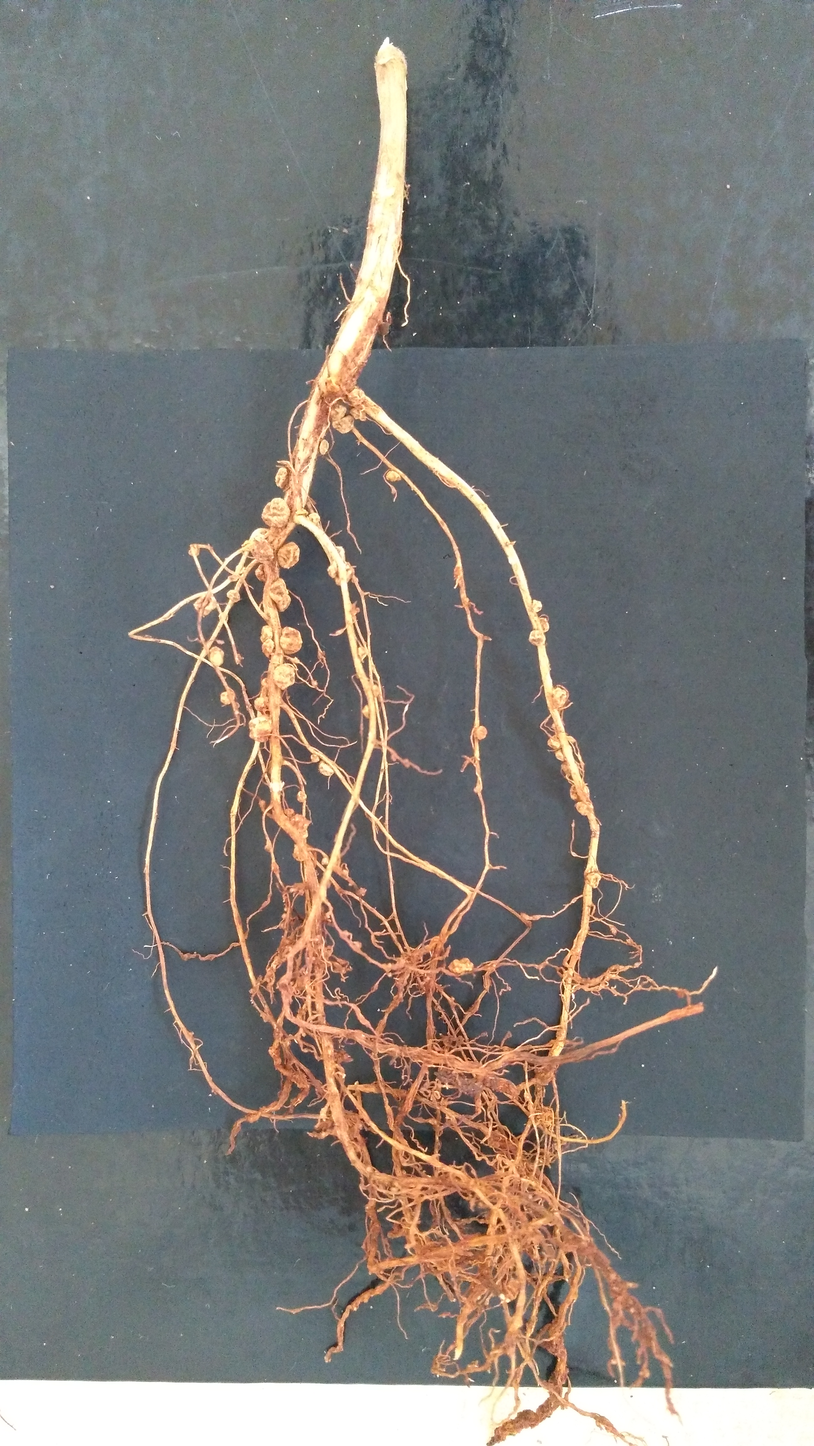nodule: (326, 545, 355, 587), (325, 1108, 362, 1139), (248, 527, 275, 565), (261, 497, 292, 528), (267, 577, 292, 612), (248, 711, 275, 742), (484, 1074, 518, 1095), (279, 625, 302, 656), (276, 540, 300, 569), (254, 677, 272, 713), (498, 1276, 522, 1303), (254, 560, 281, 582), (534, 1061, 557, 1086), (194, 593, 217, 617), (289, 813, 312, 837), (259, 624, 275, 657), (447, 957, 474, 976), (534, 1106, 556, 1128), (292, 843, 318, 861), (548, 733, 577, 749), (332, 414, 355, 434), (550, 686, 570, 709), (569, 782, 591, 802), (347, 387, 367, 406), (560, 759, 581, 777), (208, 646, 225, 668), (573, 800, 595, 817), (328, 402, 347, 421), (290, 1070, 309, 1089), (554, 744, 574, 762), (332, 1048, 353, 1065), (275, 466, 290, 489), (585, 871, 603, 888), (529, 629, 547, 645), (350, 405, 367, 421), (219, 689, 236, 705), (319, 760, 335, 776), (297, 974, 311, 991), (369, 681, 382, 699), (473, 725, 488, 739), (385, 469, 401, 482), (360, 704, 374, 718), (226, 589, 241, 602), (537, 617, 550, 632), (377, 321, 390, 336), (530, 598, 543, 612), (319, 438, 329, 456), (241, 539, 252, 555), (307, 512, 321, 524), (358, 645, 368, 661), (188, 543, 200, 556), (296, 790, 307, 803), (269, 861, 280, 874), (218, 612, 229, 624), (295, 507, 309, 516), (227, 573, 240, 582), (309, 753, 320, 763), (235, 564, 246, 574), (264, 839, 272, 852), (284, 808, 294, 818), (358, 887, 367, 897), (433, 1090, 441, 1100), (320, 856, 328, 865), (279, 920, 287, 929), (297, 888, 305, 896), (281, 912, 287, 919)
